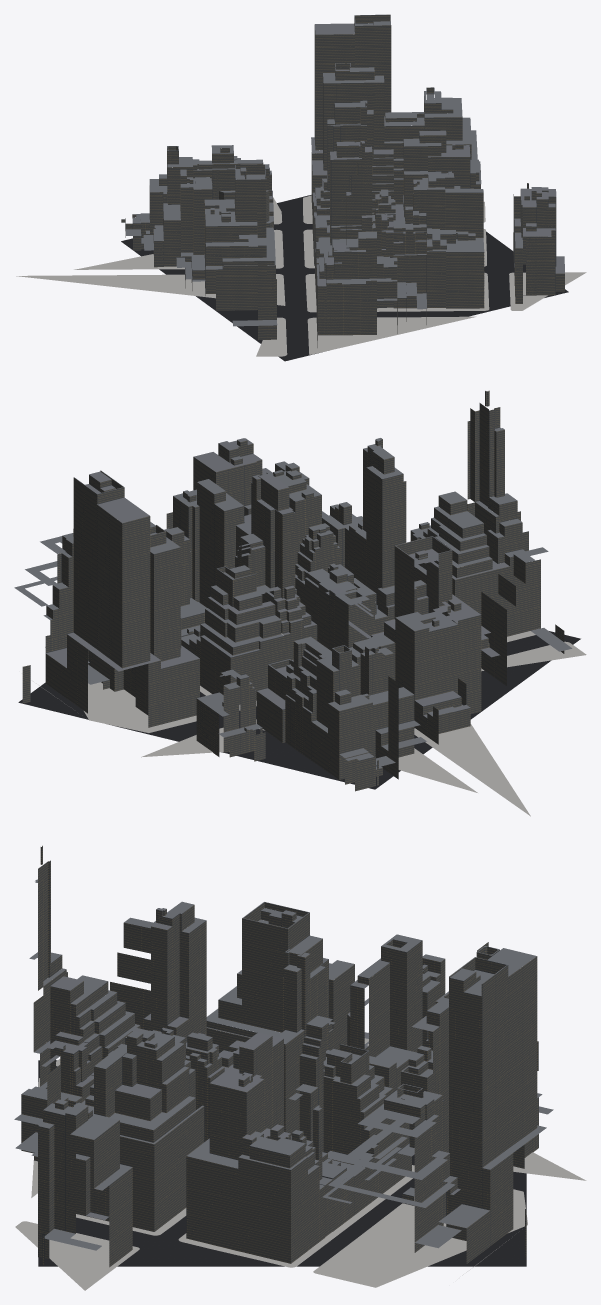
The picture shows the model from 3 angles, top to bottom: view 1: azimuth 30°, elevation 25°; view 2: azimuth 150°, elevation 25°; view 3: azimuth 270°, elevation 25°; orthographic projection. The views are drawn at different scales.
Visible parts, largest first — view 1: t5_6, detail; view 2: t5_6, detail; view 3: t5_6, detail.
Boxes of the visible parts, x1=… form: t5_6: x1=121, y1=14, x2=568, y2=361; detail: x1=16, y1=195, x2=586, y2=356; t5_6: x1=14, y1=390, x2=580, y2=791; detail: x1=33, y1=628, x2=586, y2=816; t5_6: x1=14, y1=845, x2=553, y2=1267; detail: x1=15, y1=1032, x2=586, y2=1290.
Bounding box in the file's own units: 384 × 153 × 293.
Materials: 4 (2 with a texture image).
